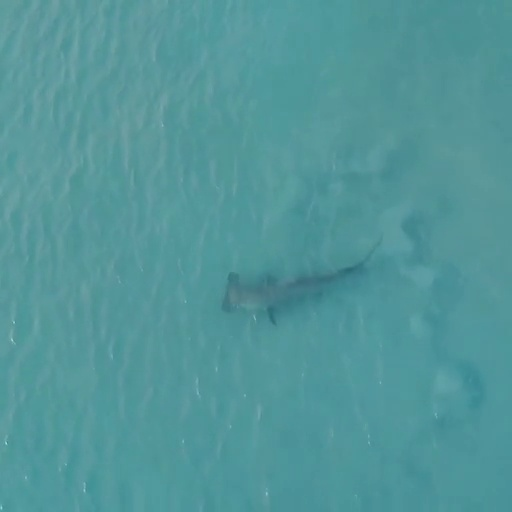shark: (220, 231, 387, 326)
